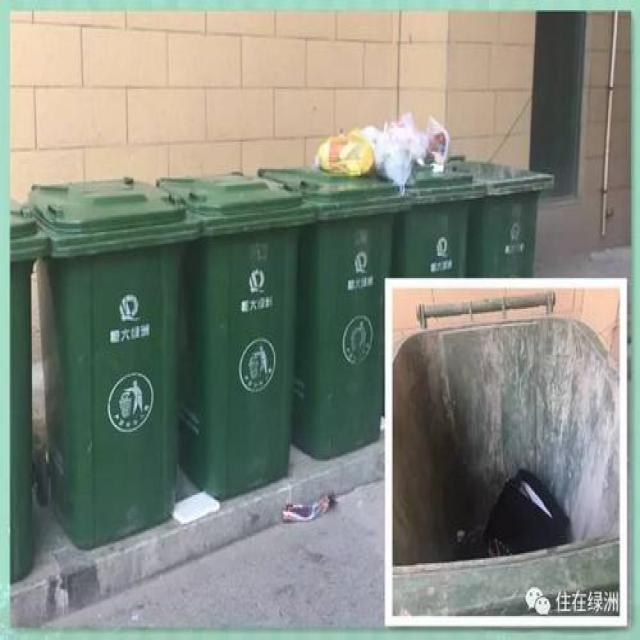garbage: (169, 485, 219, 524), (282, 490, 334, 520)
garbage_bin: (28, 178, 200, 546), (157, 172, 315, 498), (449, 153, 553, 274)
overflow: (260, 132, 410, 458), (392, 112, 480, 276)
